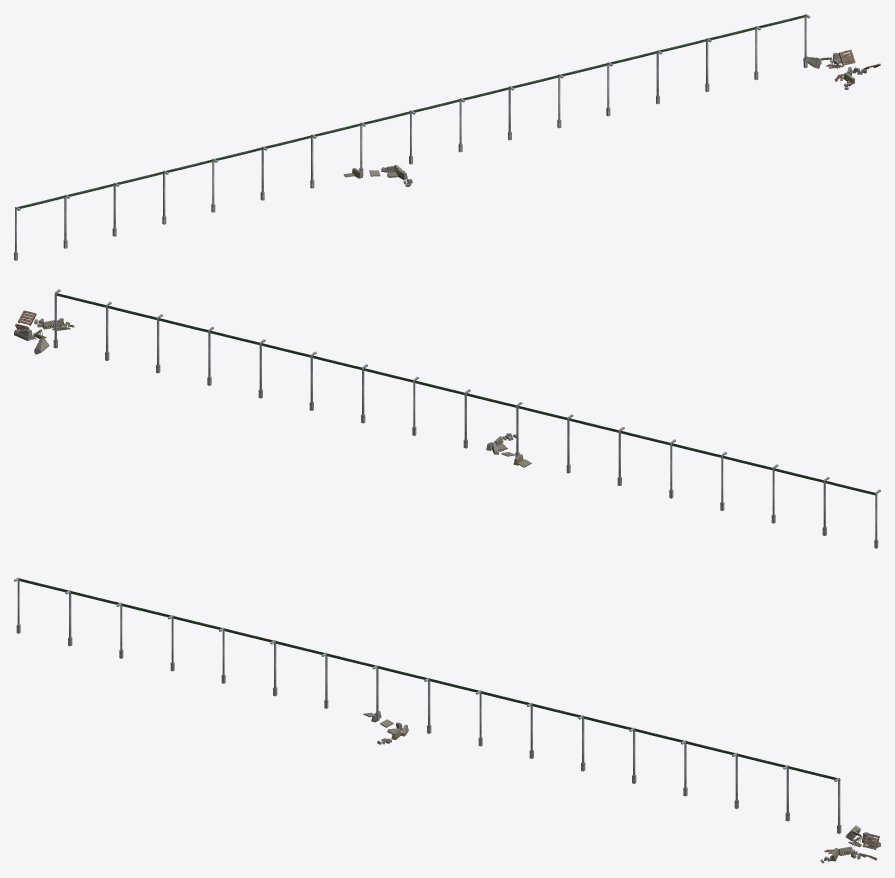
The model's file is ReObj.fbx.
The picture shows the model from 3 angles, top to bottom: view 1: azimuth 30°, elevation 25°; view 2: azimuth 150°, elevation 25°; view 3: azimuth 330°, elevation 25°; orthographic projection. The views are drawn at different scales.
Visible parts, largest first — view 1: obj; view 2: obj; view 3: obj.
Part boxes in pixels (x1,y1,x2,y2): obj: (14,14,880,260); obj: (14,289,880,548); obj: (14,577,880,863).
Bounding box in the file's own units: 5107 × 336 × 400.
Materials: 16 (16 with a texture image).
